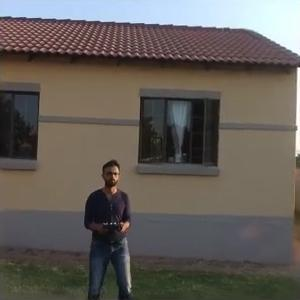follow: (79, 155, 134, 298)
